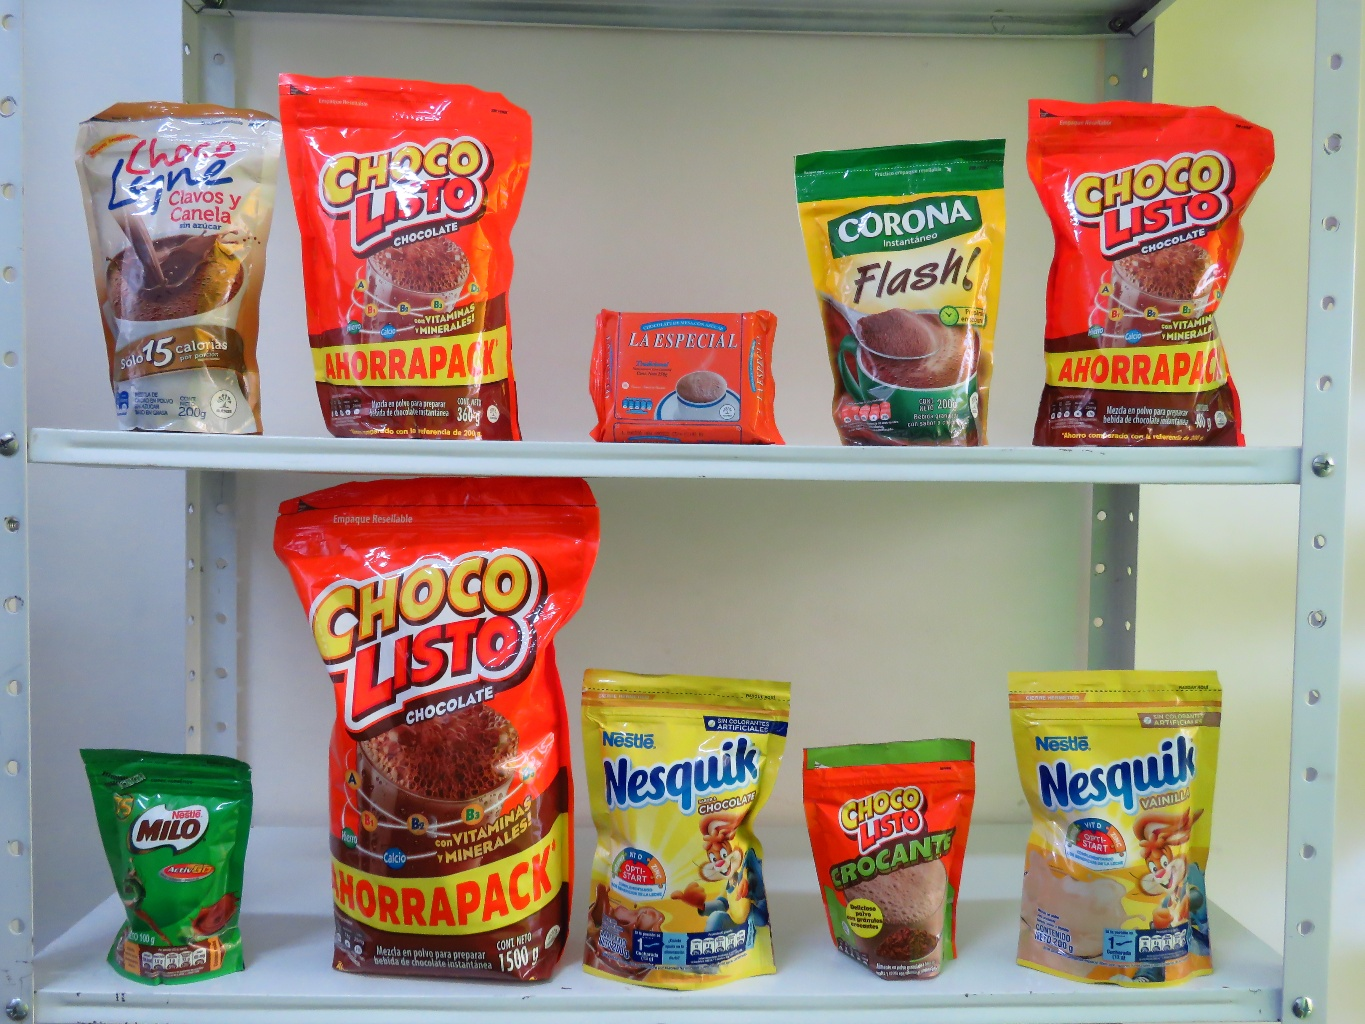COL0170102DYP10000: (805, 735, 989, 982)
COL0170103DYP1,500: (264, 474, 607, 992)
COL0170103DYP36000: (272, 54, 527, 435)
COL0170103DYP40000: (1040, 87, 1279, 452)
COL0170203DYP10000: (76, 728, 259, 991)
COL0170303DYP20000: (580, 654, 800, 991)
COL0170306DYP20000: (1000, 656, 1236, 991)
